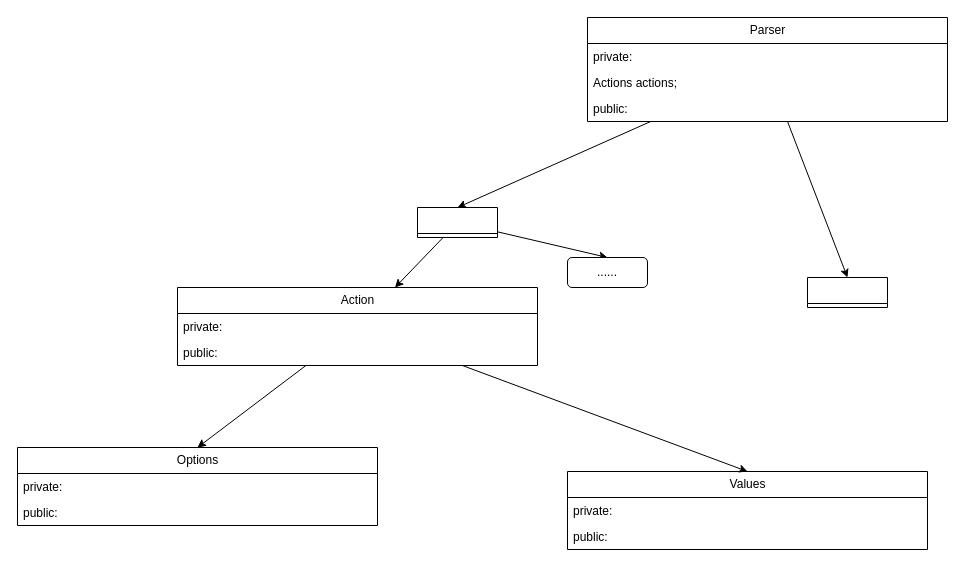
This 965x570 diagram has some shape labels left out. Each missing label, with the centre of its shape:
"Actions" belongs at (457,222).
"Arguments" belongs at (847,292).
